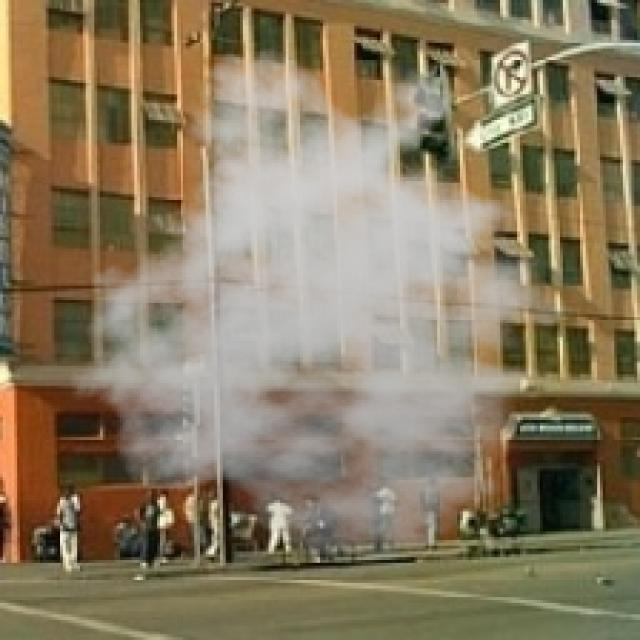Smoke: (57, 46, 600, 560)
